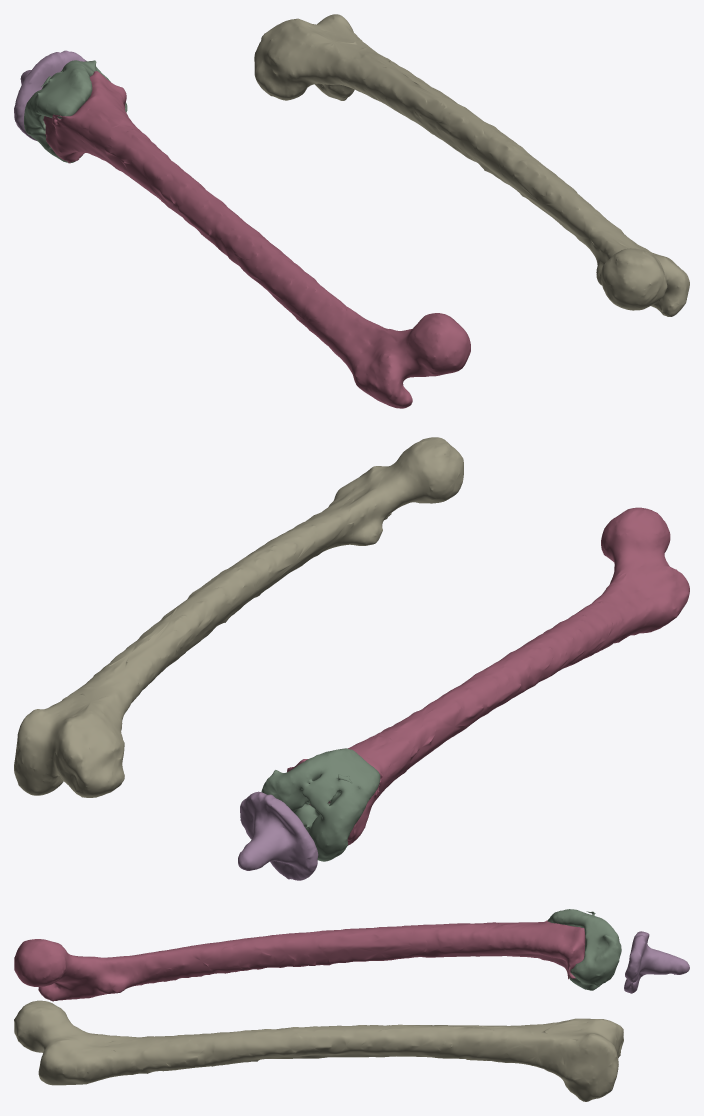
The model's file is femurs.glb.
3 renders of one model, top to bottom at view 1: azimuth 30°, elevation 25°; view 2: azimuth 150°, elevation 25°; view 3: azimuth 270°, elevation 25°, orthographic. The views are drawn at different scales.
Visible parts, largest first — view 1: Salcedo Segmentation; view 2: Salcedo Segmentation; view 3: Salcedo Segmentation.
Boxes of the visible parts, x1,y1,x2,y2 form: Salcedo Segmentation: (14, 14, 689, 408); Salcedo Segmentation: (14, 437, 689, 880); Salcedo Segmentation: (14, 909, 689, 1101).
Size of the model in its own units: 264 by 80.04 by 561.
